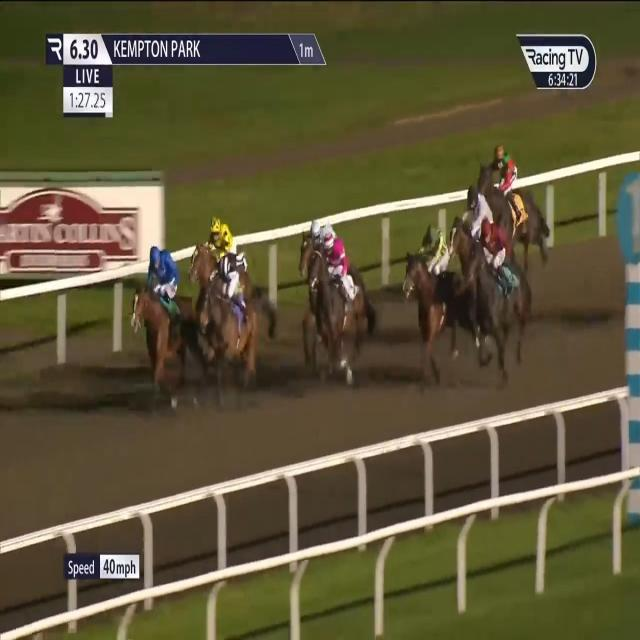horses-racing: (129, 246, 205, 400), (465, 219, 539, 377), (309, 229, 382, 379), (197, 253, 268, 387), (405, 227, 471, 369), (473, 143, 548, 265), (447, 187, 498, 272), (186, 216, 237, 294), (299, 214, 345, 293)
